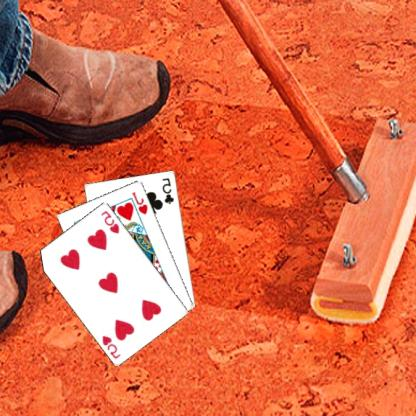5C: (162, 175, 177, 205)
5H: (102, 332, 124, 360), (100, 208, 122, 235)
JH: (130, 189, 151, 215)
